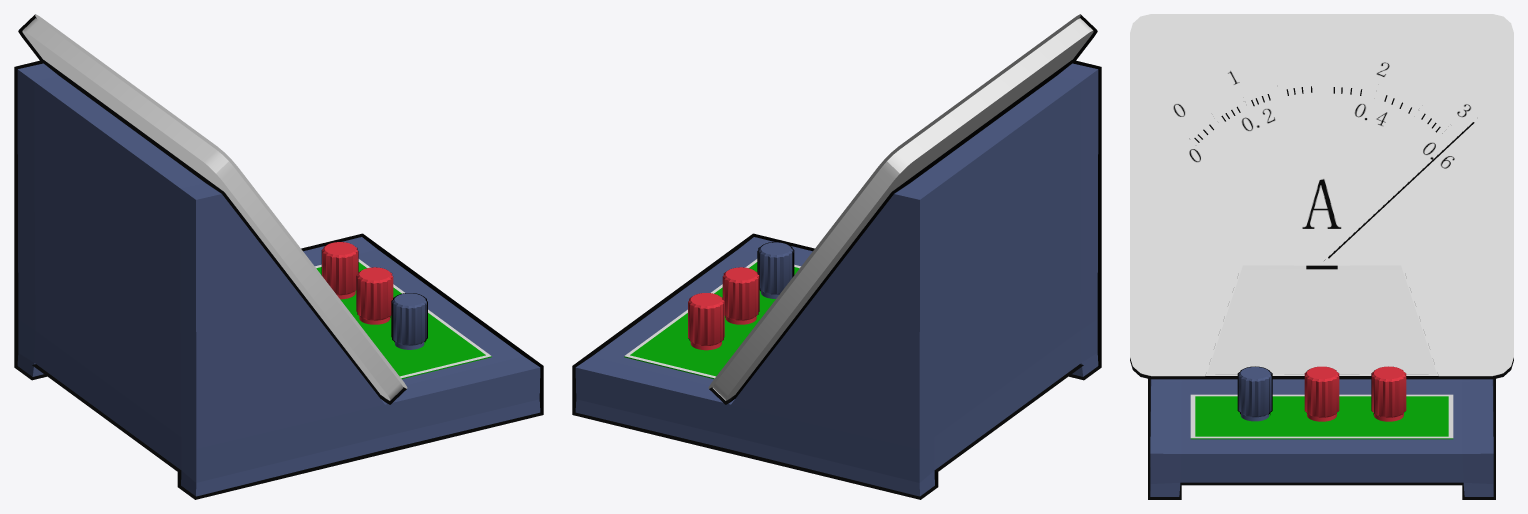
3 renders of one model, left to right at view 1: azimuth 30°, elevation 25°; view 2: azimuth 150°, elevation 25°; view 3: azimuth 270°, elevation 25°, orthographic. The views are drawn at different scales.
Parts seen in each view (by area): view 1: 立方体.006, 立方体.007, 立方体.089, 平面.004, 立方体.090, 柱体.017, 柱体.016, 柱体.019; view 2: 立方体.006, 立方体.007, 立方体.089, 平面.004, 立方体.090, 柱体.017, 柱体.019, 柱体.016; view 3: 立方体.090, 立方体.006, 立方体.008, 平面.004, 立方体.089, 柱体.019, 柱体.017, 柱体.016.
Part boxes in pixels (bbox=[...]): 立方体.006: bbox=[17, 63, 540, 496]; 立方体.007: bbox=[22, 18, 403, 400]; 立方体.089: bbox=[14, 60, 543, 499]; 平面.004: bbox=[315, 259, 491, 378]; 立方体.090: bbox=[18, 14, 407, 404]; 柱体.017: bbox=[356, 267, 393, 324]; 柱体.016: bbox=[392, 293, 426, 349]; 柱体.019: bbox=[322, 242, 358, 299]; 立方体.006: bbox=[575, 63, 1098, 496]; 立方体.007: bbox=[712, 18, 1093, 400]; 立方体.089: bbox=[572, 60, 1101, 499]; 平面.004: bbox=[624, 259, 800, 378]; 立方体.090: bbox=[708, 14, 1097, 404]; 柱体.017: bbox=[722, 267, 759, 324]; 柱体.019: bbox=[688, 293, 724, 350]; 柱体.016: bbox=[758, 242, 793, 298]; 立方体.090: bbox=[1130, 14, 1513, 379]; 立方体.006: bbox=[1150, 379, 1493, 496]; 立方体.008: bbox=[1207, 265, 1436, 374]; 平面.004: bbox=[1190, 394, 1453, 439]; 立方体.089: bbox=[1148, 379, 1495, 499]; 柱体.019: bbox=[1371, 366, 1406, 421]; 柱体.017: bbox=[1304, 366, 1339, 421]; 柱体.016: bbox=[1238, 367, 1271, 421].
Bounding box in the file's own units: 1.39 × 1.32 × 1.38.
7 materials, 1 textured.
